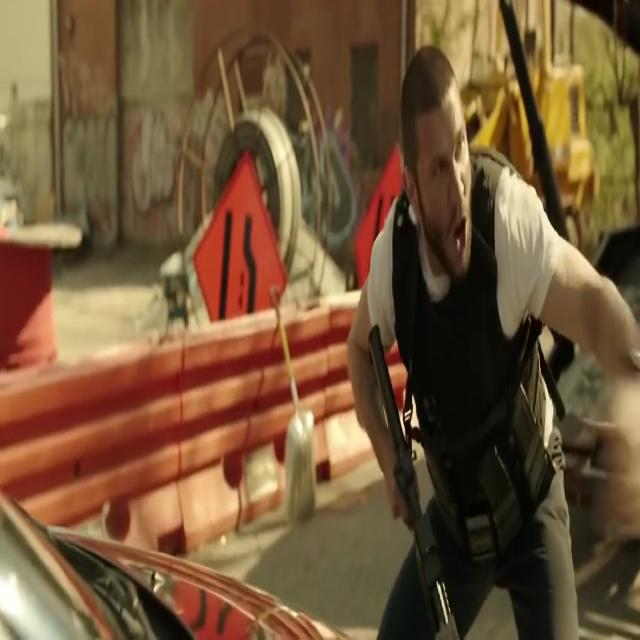Weapon: (372, 296, 470, 640)
